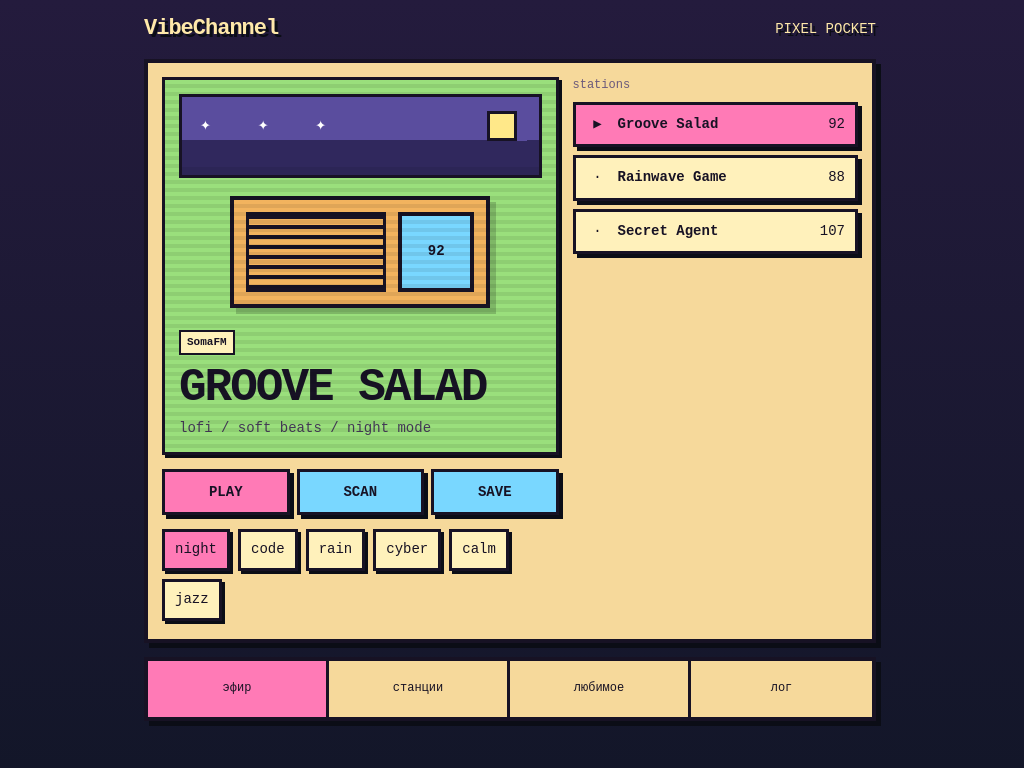
it: VibeChannel pocket radio app › plays the current stream and writes listening history
Expected: the heading "Groove Salad" is shown, [179,362,486,414]
Click the button "play" at (226, 492), box [162,470,290,516]
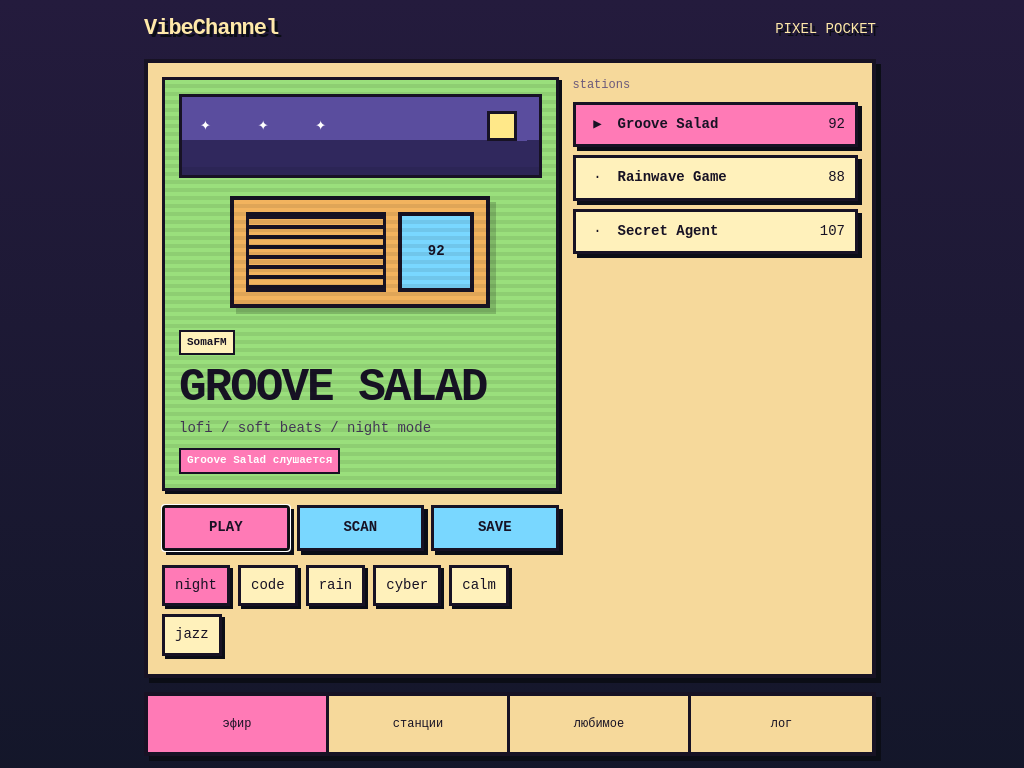
Expected: the text "Groove Salad слушается" is shown, [179,448,340,474]
